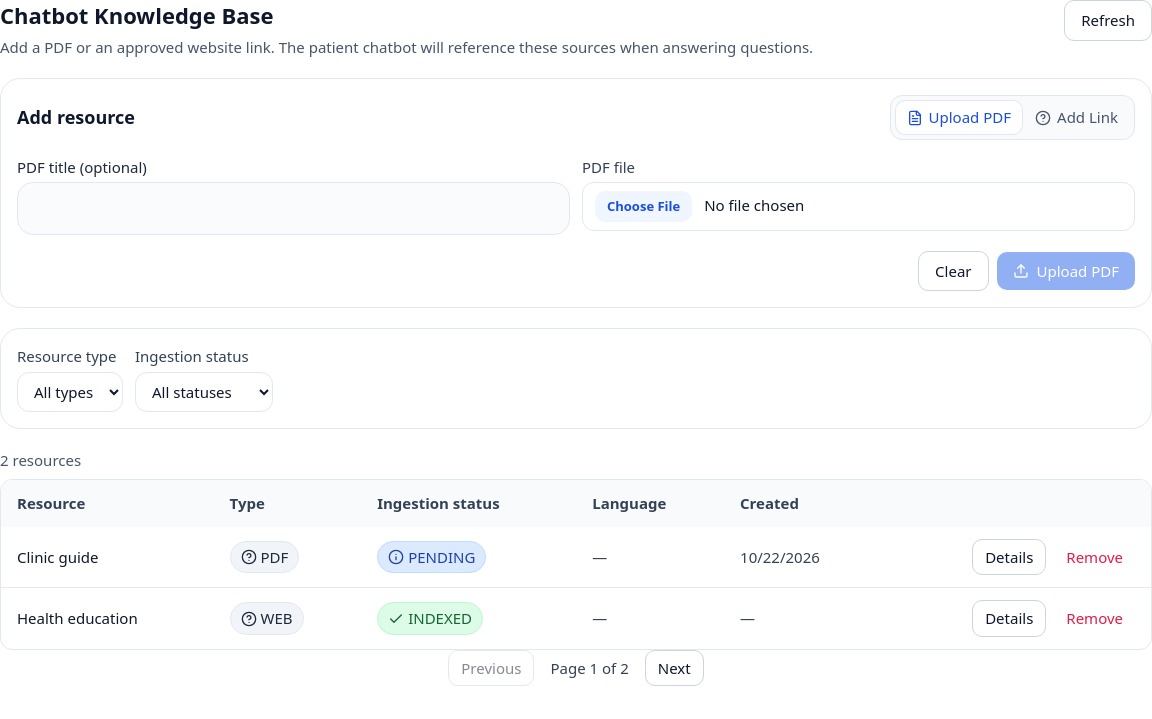
Test: loads resource details and requires confirmation before removing
Click the button "Details" in the row of "Clinic guide": (1009, 557) [972,539,1046,575]
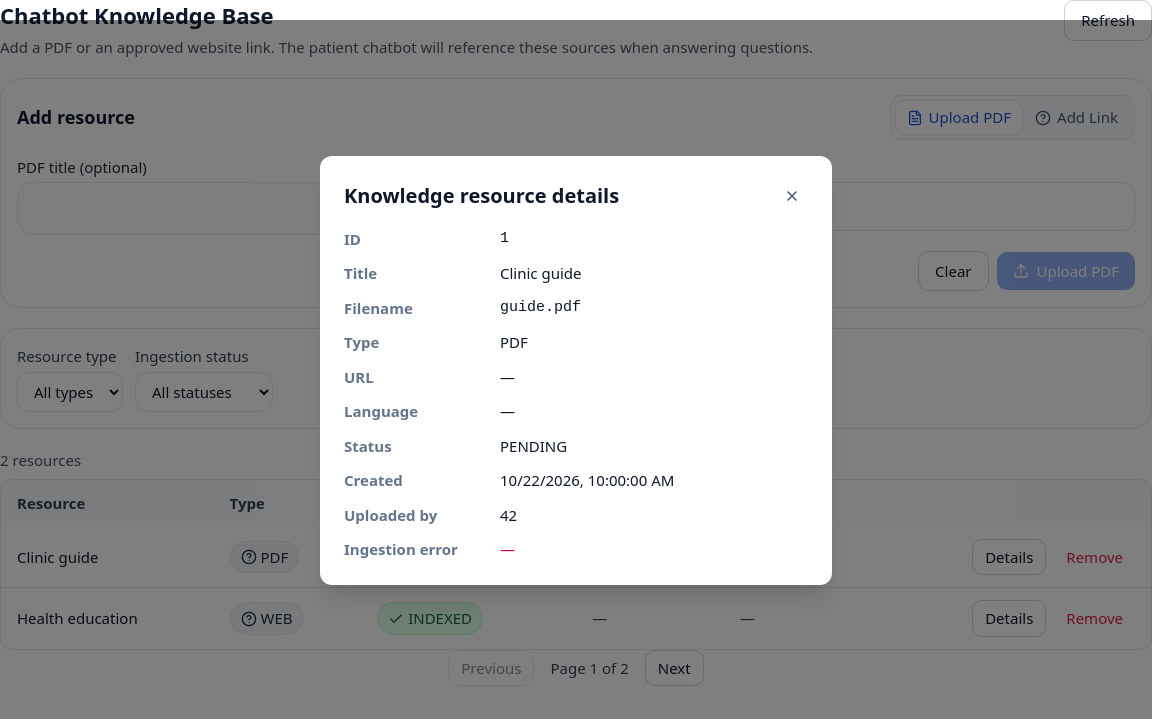
expect the text "guide.pdf" is shown: met, box [500,298,581,316]
Click the button named "close": (792, 196) [776,180,808,212]
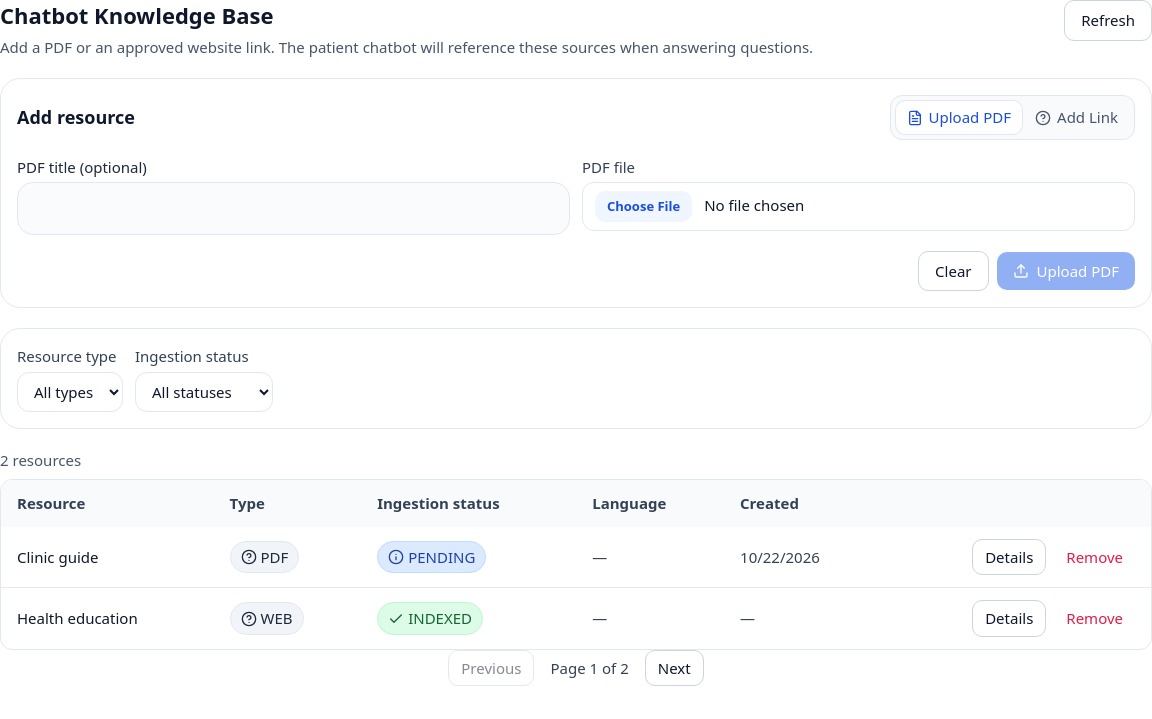
Click the button "Remove" in the row of "Clinic guide": (1095, 557) [1054,539,1135,575]
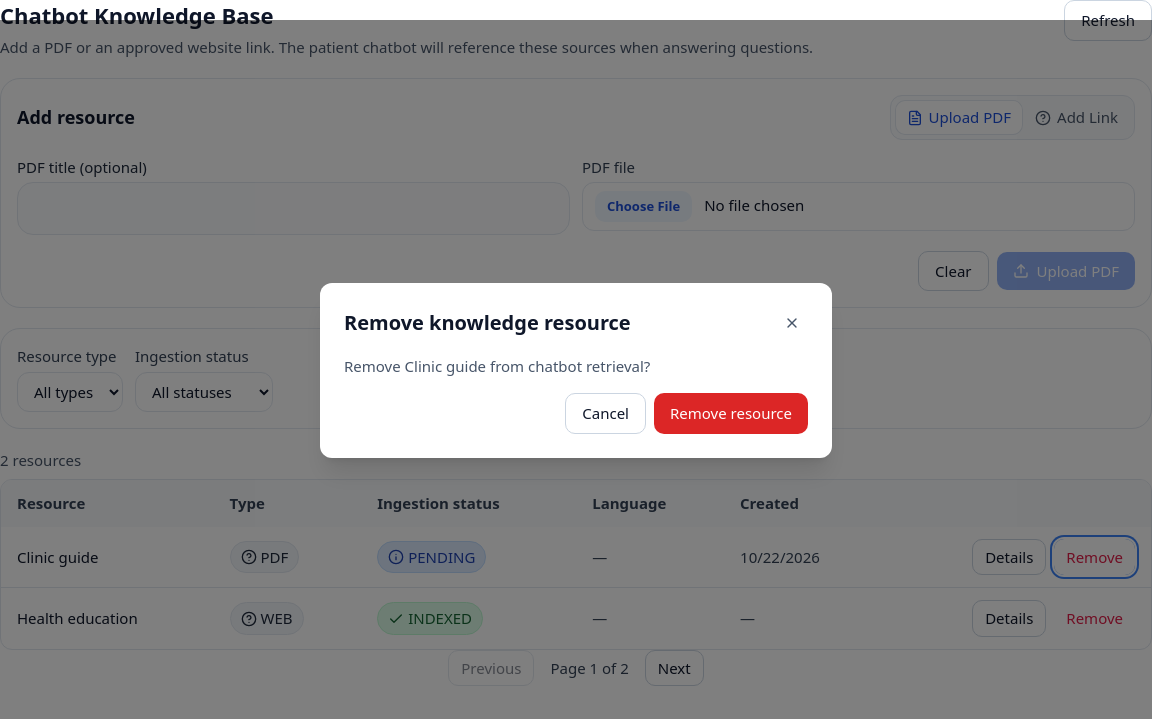
Click the button "Remove resource": (731, 413) [654,393,808,434]
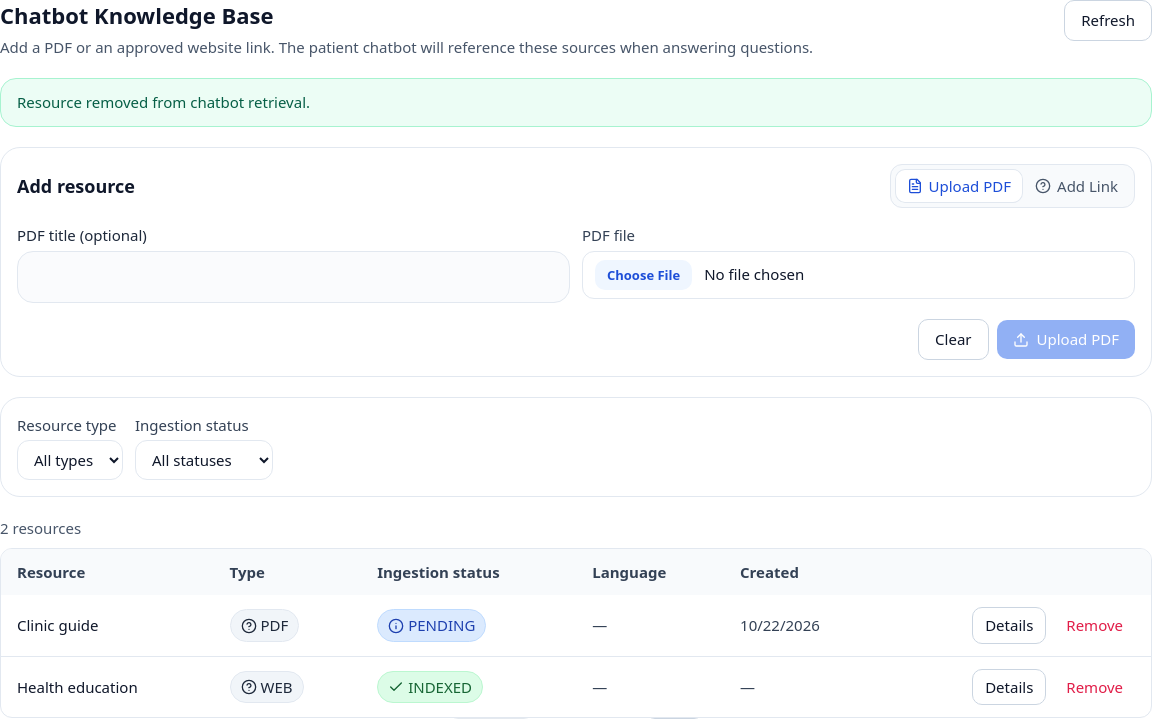
expect the text "Resource removed from chatbot retrieval." is shown: met, box [0,78,1151,127]
